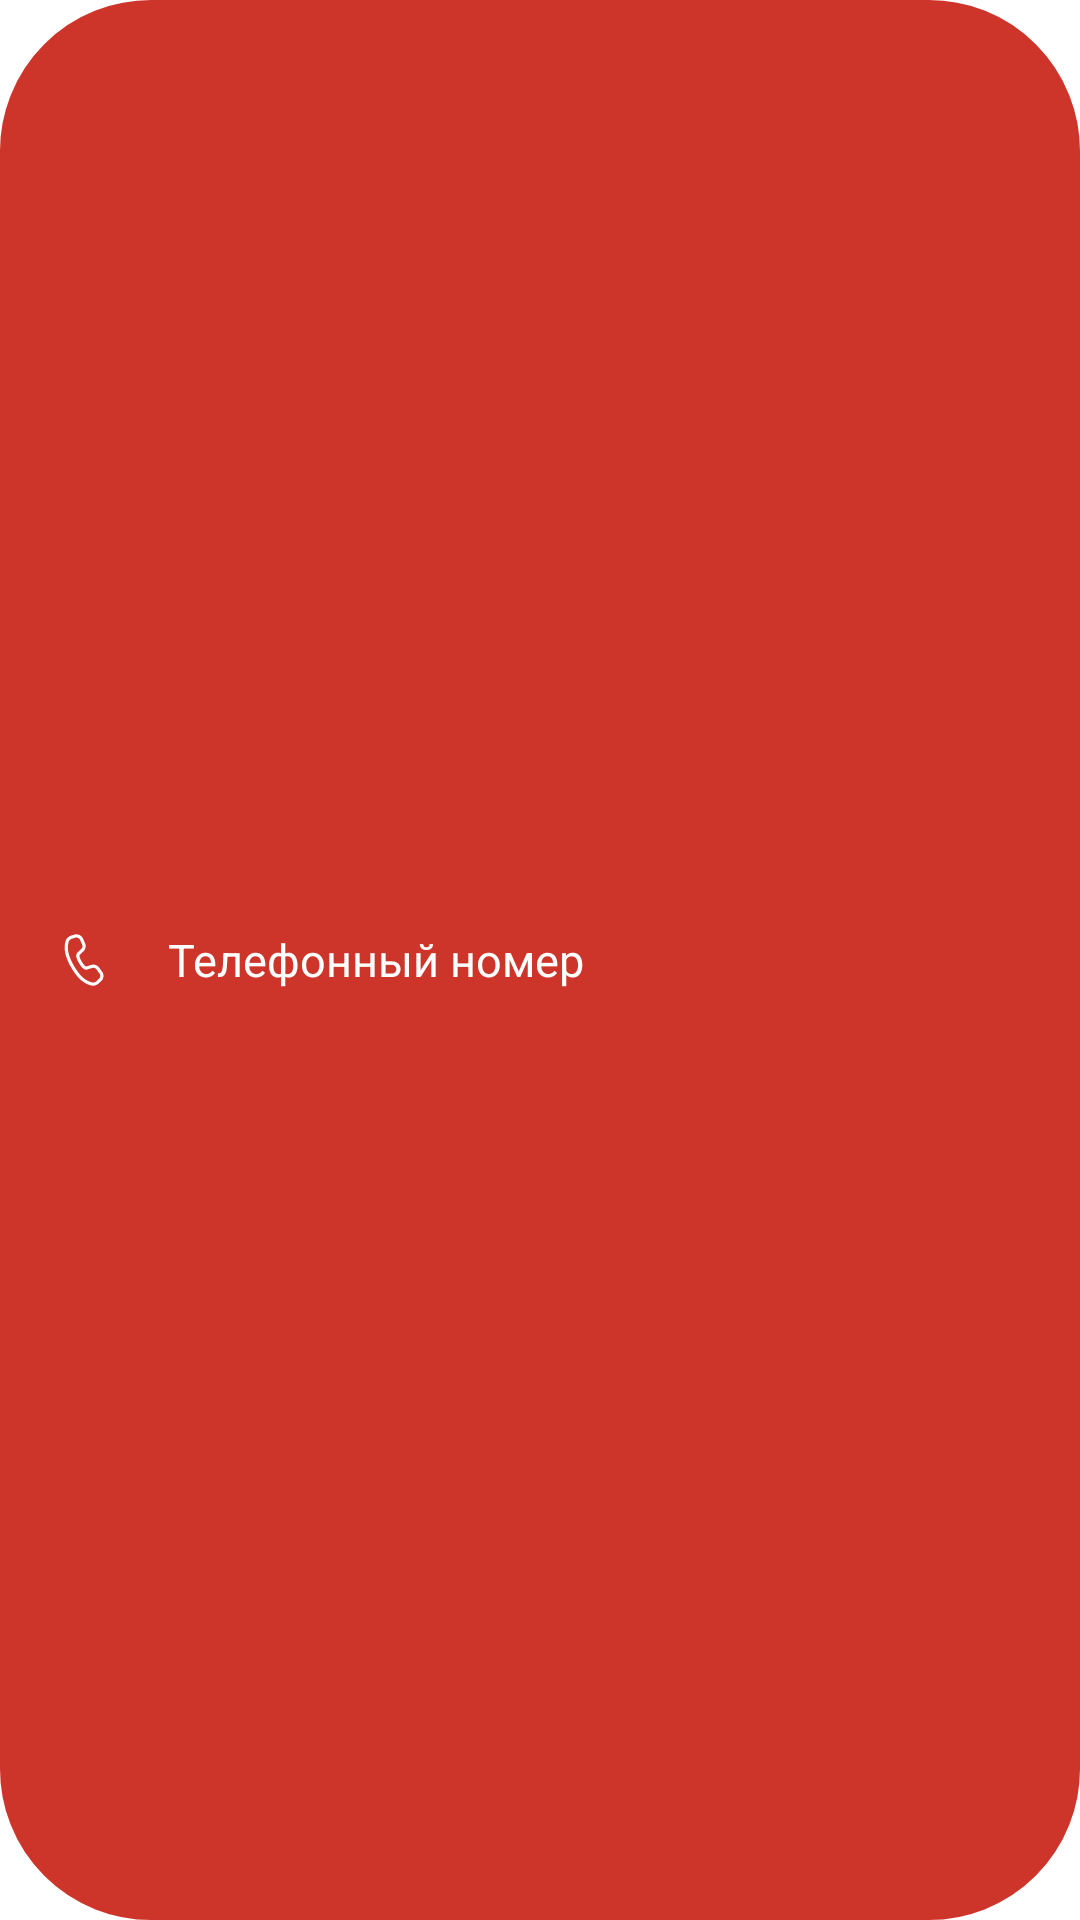

Icon bounding boxes for this 1080 x 1920 phone screenshot, format region(x1, y1, x2, y2):
phone: region(64, 934, 104, 986)
